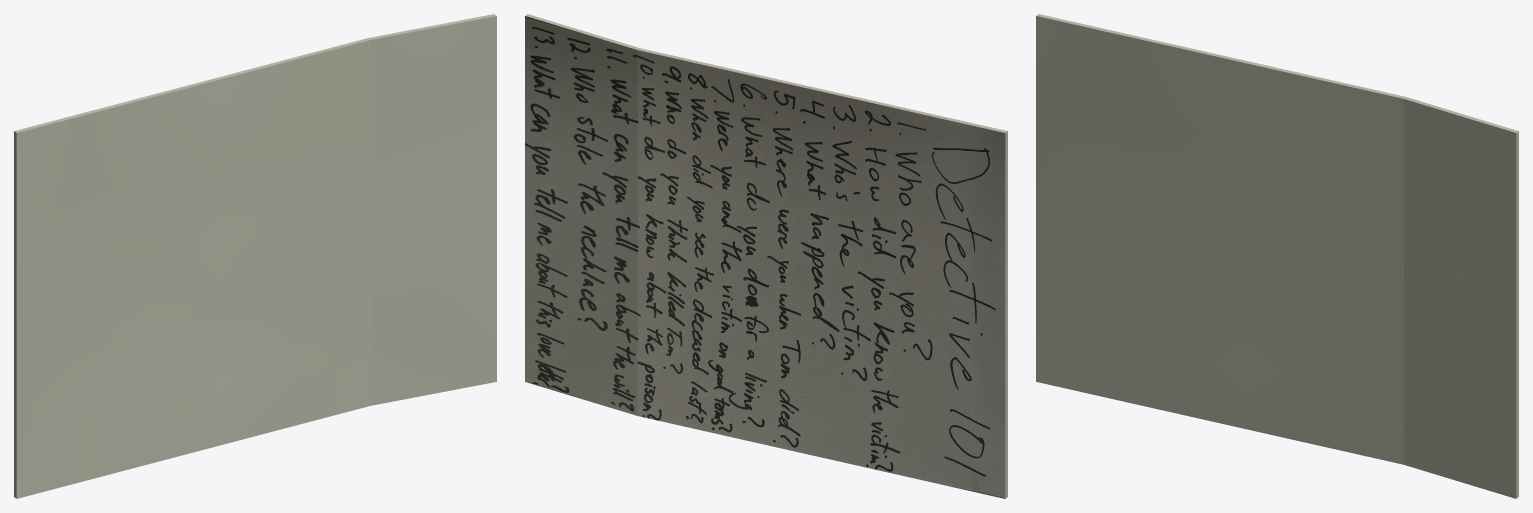
The model's file is TipsGood2.fbx.
3 views of the same model, side by side, from view 1: azimuth 30°, elevation 25°; view 2: azimuth 150°, elevation 25°; view 3: azimuth 330°, elevation 25° (orthographic).
Parts seen in each view (by area): view 1: Tips; view 2: Tips; view 3: Tips.
Boxes of the visible parts, x1,y1,x2,y2 form: Tips: (14, 14, 496, 498); Tips: (525, 14, 1007, 498); Tips: (1036, 14, 1518, 498).
Size of the model in its own units: 71.65 by 52.19 by 2.46.
1 material, 1 textured.
